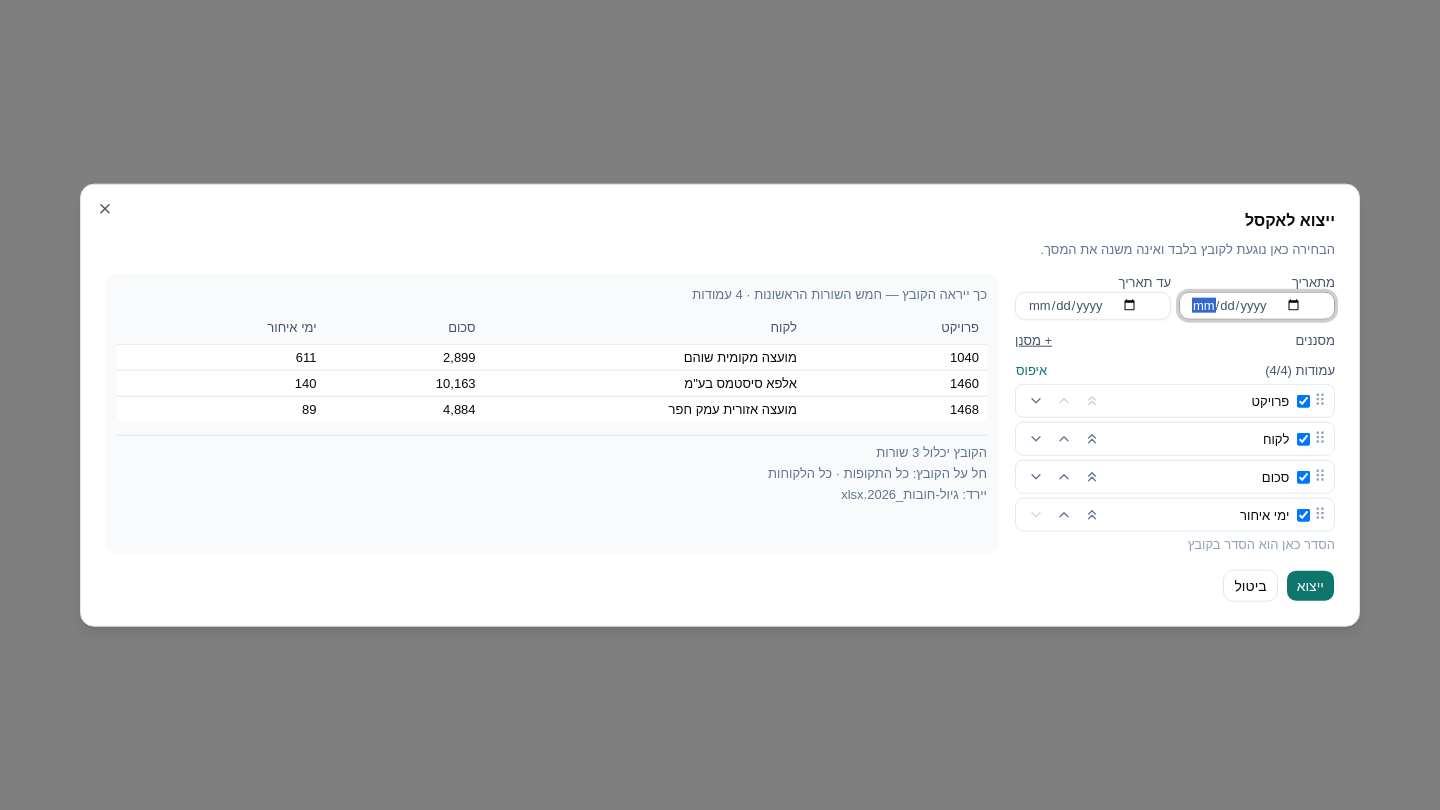
Test case: ExportDialog — שורת-הכמות אומרת את האמת › אפס עמודות — הכפתור מנוטרל והמשפט מפורש
Click the checkbox named "פרויקט, עמודה 1 מתוך 4".
click(1304, 401)  # box [1297, 394, 1310, 408]
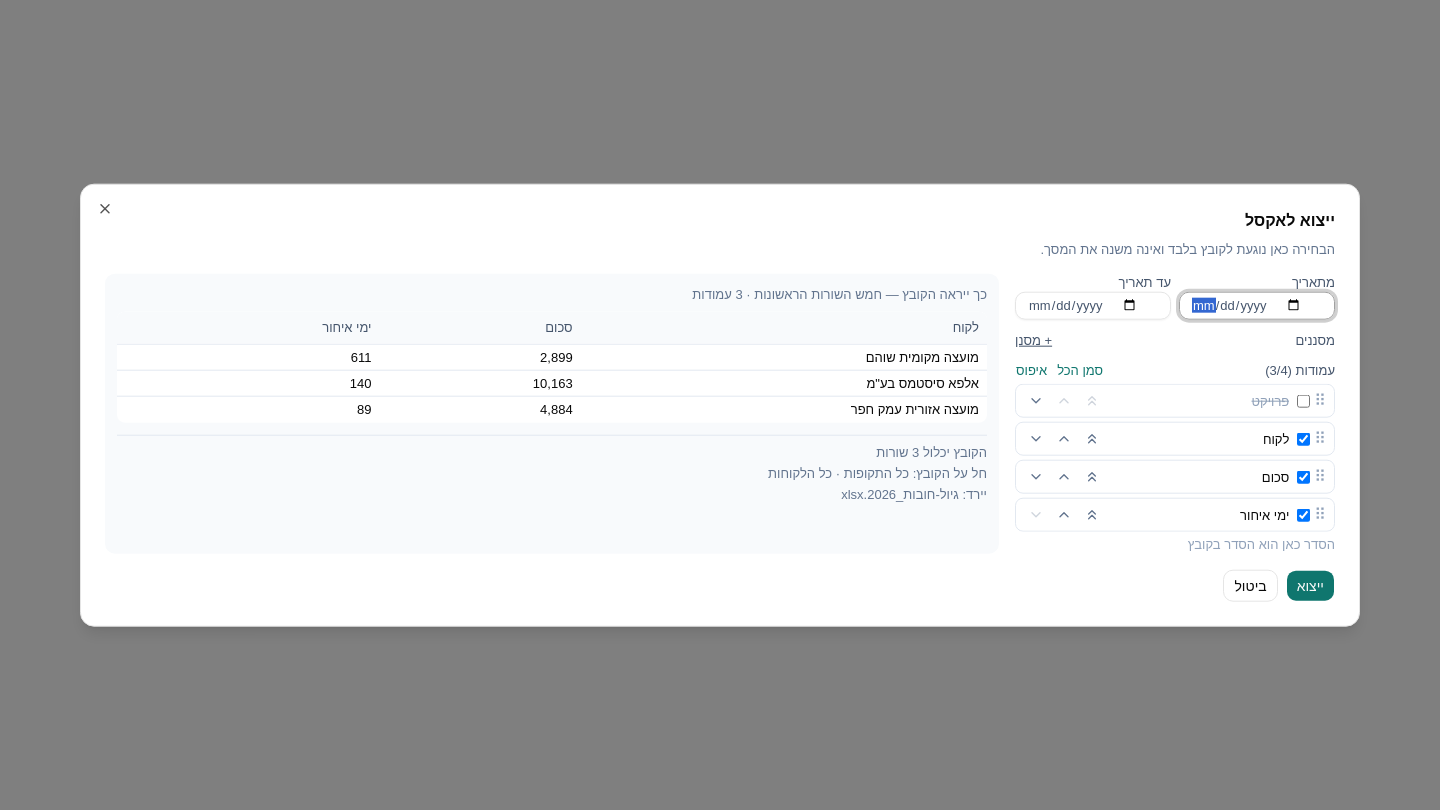
Click the checkbox named "לקוח, עמודה 2 מתוך 4".
click(1304, 439)  # box [1297, 432, 1310, 446]
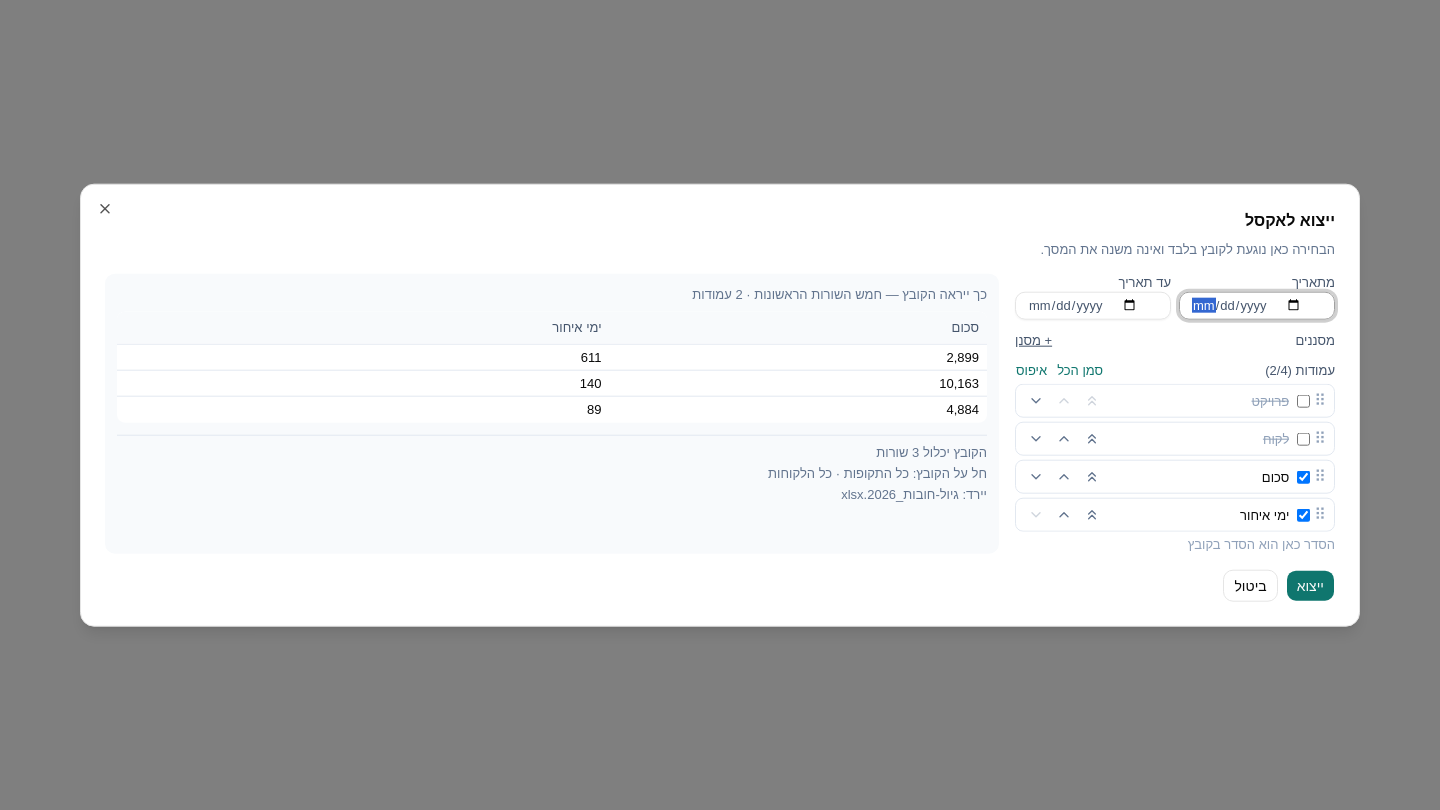
Click the checkbox named "סכום, עמודה 3 מתוך 4".
click(1304, 477)  # box [1297, 470, 1310, 484]
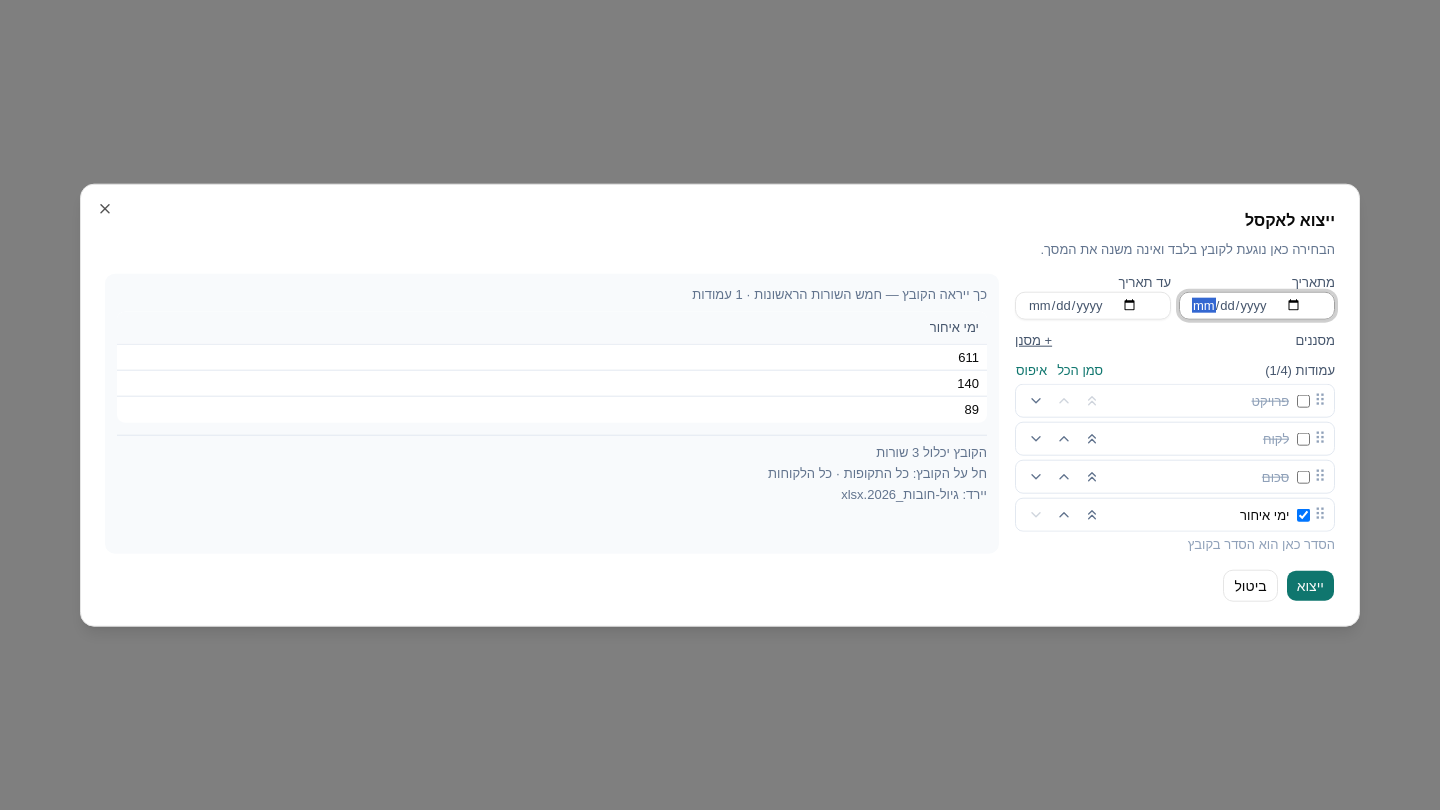
Click the checkbox named "ימי איחור, עמודה 4 מתוך 4".
click(1304, 515)  # box [1297, 508, 1310, 522]
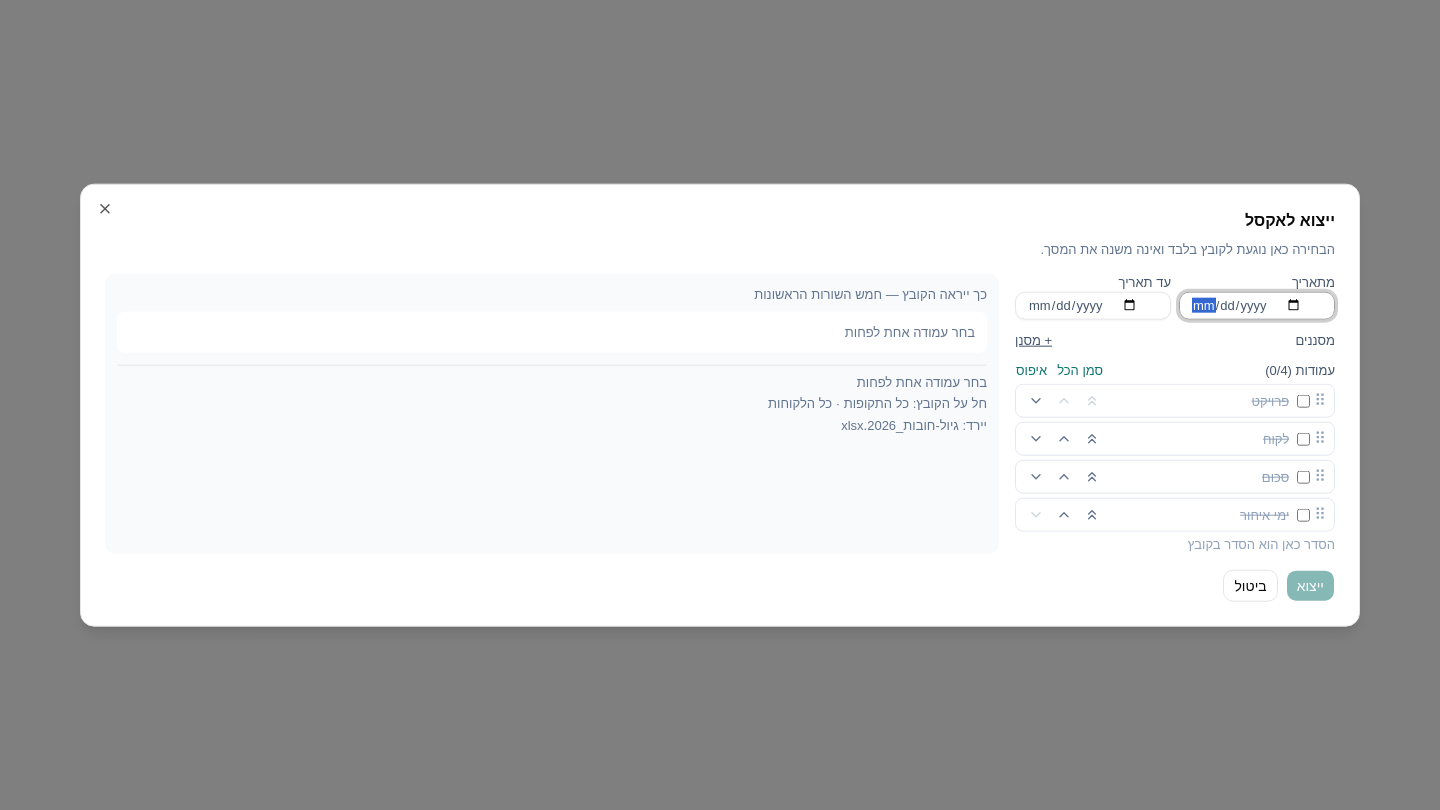
Expected: the text with test id "export-count" reads "בחר עמודה אחת לפחות", [857, 375, 987, 390]
Expected: the button with test id "export-dialog-run" is disabled, [1286, 569, 1335, 601]
